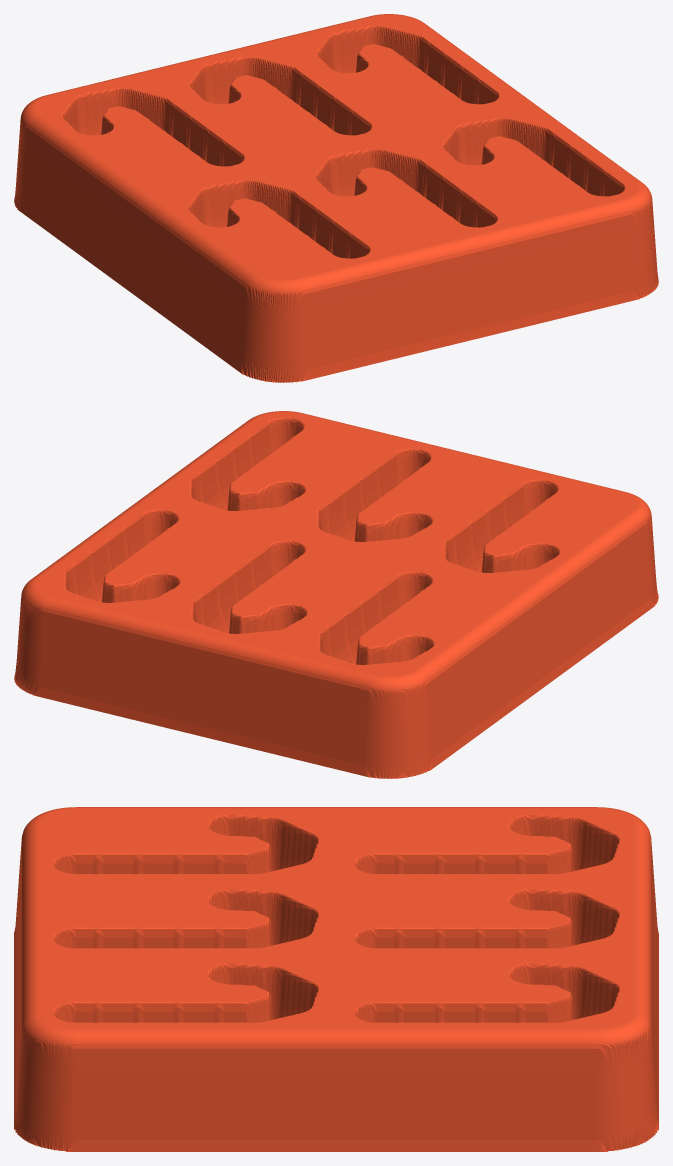
The model's file is mold.glb.
3 renders of one model, top to bottom at view 1: azimuth 30°, elevation 25°; view 2: azimuth 150°, elevation 25°; view 3: azimuth 270°, elevation 25°, orthographic. The views are drawn at different scales.
Parts seen in each view (by area): view 1: geometry_0; view 2: geometry_0; view 3: geometry_0.
Part boxes in pixels (x1=…): geometry_0: x1=14, y1=14, x2=658, y2=382; geometry_0: x1=14, y1=411, x2=658, y2=778; geometry_0: x1=14, y1=807, x2=658, y2=1151.
Bounding box in the file's own units: 0.0838 × 0.0182 × 0.0947.
